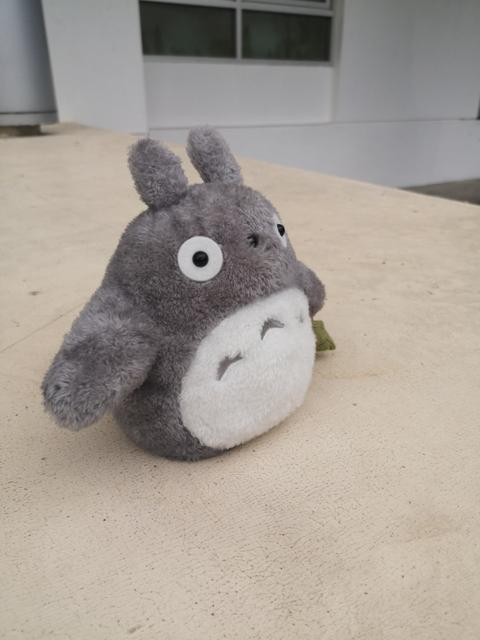totoro: (40, 123, 340, 466)
